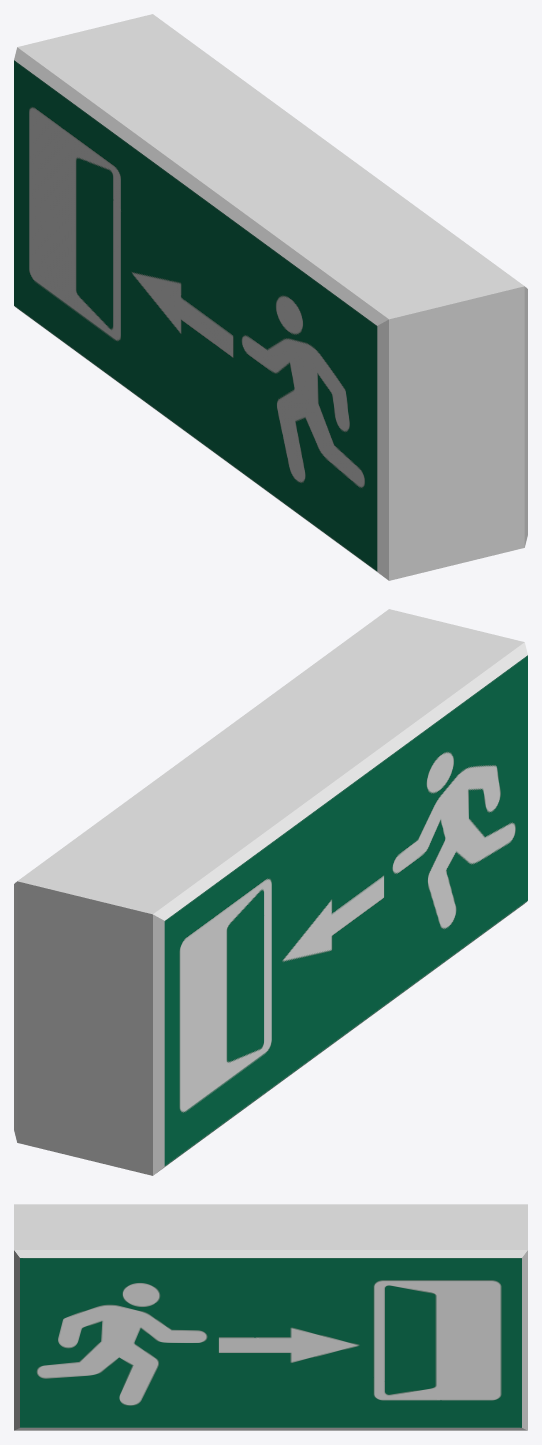
Rendered from WW_ExitSign_Env.fbx.
3 views of the same model, one above another, from view 1: azimuth 30°, elevation 25°; view 2: azimuth 150°, elevation 25°; view 3: azimuth 270°, elevation 25° (orthographic). The views are drawn at different scales.
Parts seen in each view (by area): view 1: ExitSign; view 2: ExitSign; view 3: ExitSign.
Boxes of the visible parts, x1,y1,x2,y2 form: ExitSign: (14, 14, 527, 580); ExitSign: (14, 609, 527, 1175); ExitSign: (14, 1204, 527, 1430).
Size of the model in its own units: 24.52 by 40.66 by 105.
